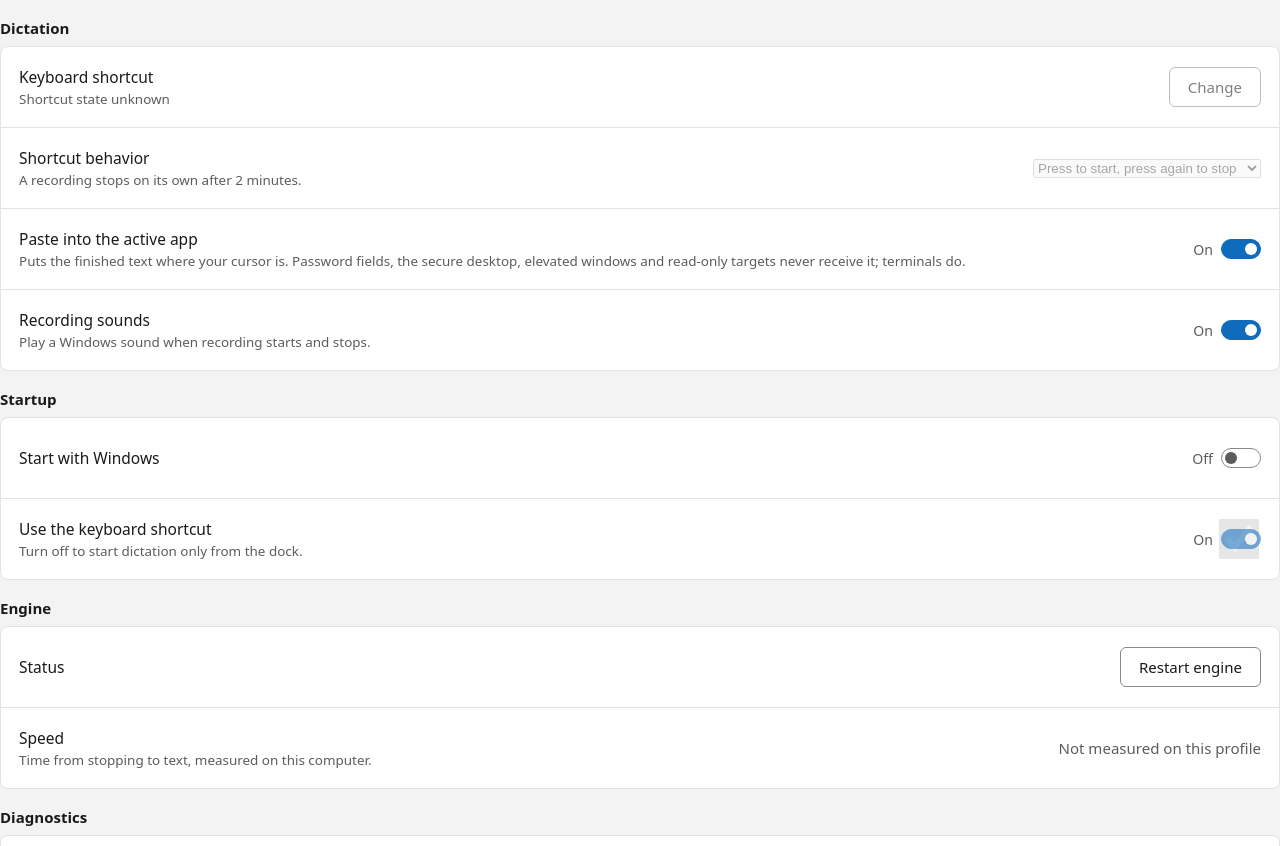
Test case: a refused automatic-paste change is reported and the switch does not move
Click the switch named "Paste into the active app": click(1227, 249) top-left (1193, 239), bottom-right (1261, 259)
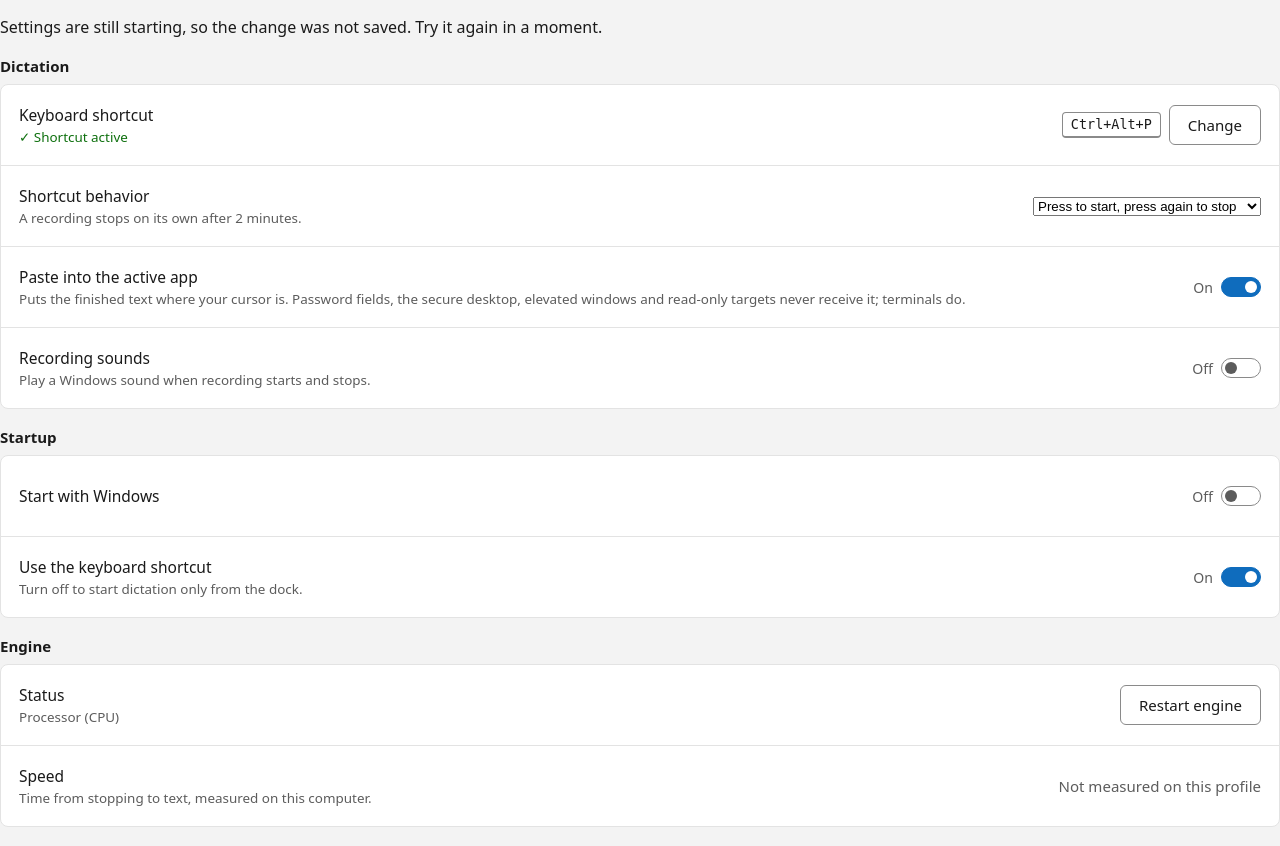
Check: the message shows "Settings are still starting, so the change was not saved. Try it again in a moment.", box top-left (0, 16), bottom-right (602, 38)
